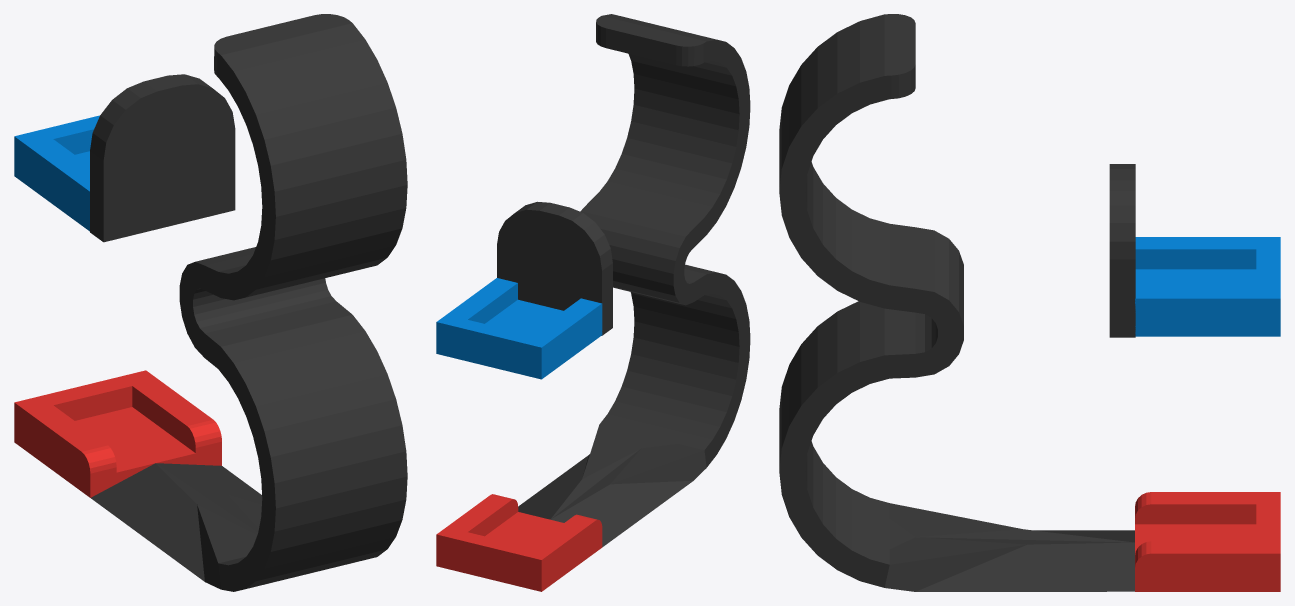
Rendered from level design 2.fbx.
3 views of the same model, side by side, from view 1: azimuth 30°, elevation 25°; view 2: azimuth 150°, elevation 25°; view 3: azimuth 270°, elevation 25° (orthographic). The views are drawn at different scales.
Parts seen in each view (by area): view 1: Circle.001, Cube.007, Cube.006, Cube.005; view 2: Circle.001, Cube.005, Cube.006, Cube.007; view 3: Circle.001, Cube.005, Cube.006, Cube.007.
Part boxes in pixels (x1,y1,x2,y2): Circle.001: (91,14,407,591); Cube.007: (90,74,235,242); Cube.006: (14,370,221,497); Cube.005: (14,115,99,231); Circle.001: (518,14,750,547); Cube.005: (436,278,602,379); Cube.006: (436,494,602,591); Cube.007: (497,201,612,335); Circle.001: (779,14,1134,591); Cube.005: (1135,237,1280,336); Cube.006: (1135,492,1280,591); Cube.007: (1109,164,1135,337).
Size of the model in its own units: 2 by 7.83 by 6.88.
